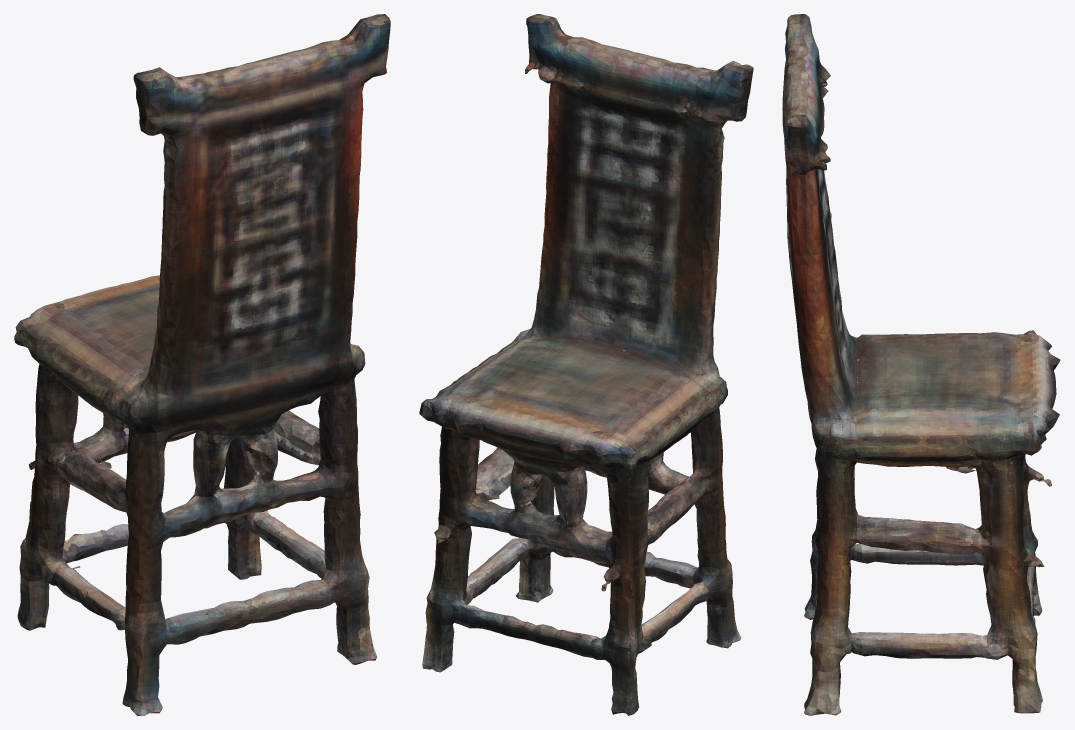
File: a traditional chinese chair_15.glb
3 views of the same model, side by side, from view 1: azimuth 30°, elevation 25°; view 2: azimuth 150°, elevation 25°; view 3: azimuth 270°, elevation 25° (orthographic). The views are drawn at different scales.
Bounding box in the file's own units: 0.4034 × 0.9897 × 0.4192.
1 material, 1 textured.
